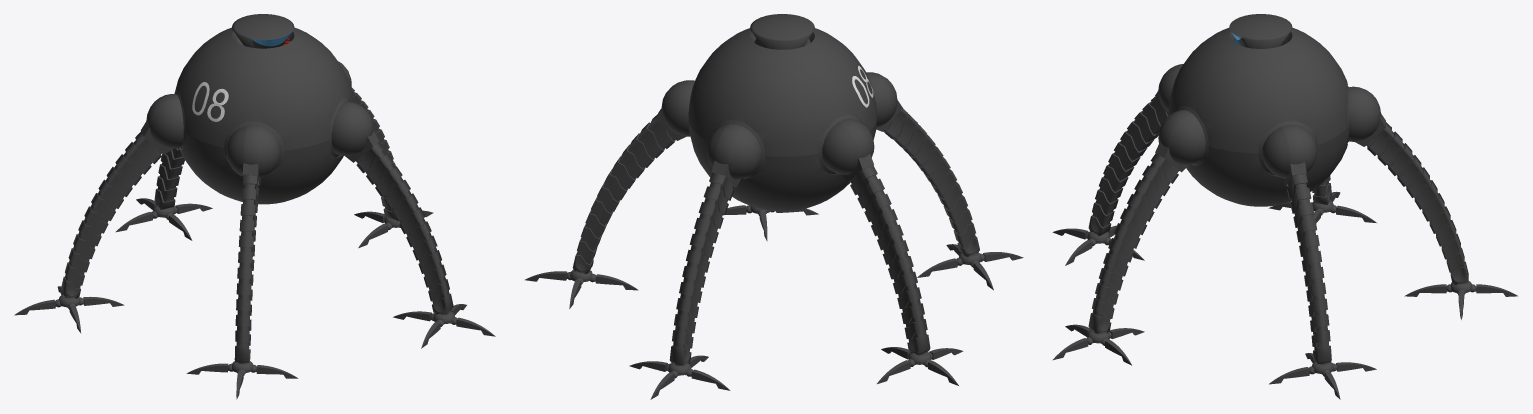
The model's file is Omnidroid.obj.
3 views of the same model, side by side, from view 1: azimuth 30°, elevation 25°; view 2: azimuth 150°, elevation 25°; view 3: azimuth 270°, elevation 25° (orthographic). The views are drawn at different scales.
Parts seen in each view (by area): view 1: Mesh44 Body1 Model, Mesh20 Shoulder2 Leg2 Model, Mesh47 Shoulder3 Leg3 Model, Mesh85 Shoulder5 Leg5 Model, Mesh40 Head1 Model, Mesh50 Arm_segment24 Leg3 Model, Mesh88 Arm_segment46 Leg5 Model, Mesh51 Arm_segment25 Leg3 Model, Mesh89 Arm_segment47 Leg5 Model, Mesh52 Arm_segment26 Leg3 Model, Mesh90 Arm_segment48 Leg5 Model, Mesh21 Shoulder_seal2 Leg2 Model (+3 smaller); view 2: Mesh44 Body1 Model, Mesh66 Shoulder4 Leg4 Model, Mesh85 Shoulder5 Leg5 Model, Mesh40 Head1 Model, Mesh1 Shoulder1 Leg1 Model, Mesh20 Shoulder2 Leg2 Model, Mesh88 Arm_segment46 Leg5 Model, Mesh89 Arm_segment47 Leg5 Model, Mesh4 Arm_segment2 Leg1 Model, Mesh90 Arm_segment48 Leg5 Model, Mesh91 Arm_segment49 Leg5 Model, Mesh5 Arm_segment3 Leg1 Model; view 3: Mesh44 Body1 Model, Mesh1 Shoulder1 Leg1 Model, Mesh47 Shoulder3 Leg3 Model, Mesh40 Head1 Model, Mesh66 Shoulder4 Leg4 Model, Mesh20 Shoulder2 Leg2 Model, Mesh50 Arm_segment24 Leg3 Model, Mesh69 Arm_segment35 Leg4 Model, Mesh51 Arm_segment25 Leg3 Model, Mesh52 Arm_segment26 Leg3 Model, Mesh70 Arm_segment36 Leg4 Model, Mesh53 Arm_segment27 Leg3 Model (+5 smaller).
Part boxes in pixels (box(x1,y1,x2,y2)): Mesh44 Body1 Model: box(174, 27, 353, 204); Mesh20 Shoulder2 Leg2 Model: box(226, 125, 280, 185); Mesh47 Shoulder3 Leg3 Model: box(331, 101, 378, 162); Mesh85 Shoulder5 Leg5 Model: box(140, 94, 183, 154); Mesh40 Head1 Model: box(232, 14, 294, 48); Mesh50 Arm_segment24 Leg3 Model: box(365, 150, 393, 184); Mesh88 Arm_segment46 Leg5 Model: box(125, 140, 152, 174); Mesh51 Arm_segment25 Leg3 Model: box(374, 163, 402, 196); Mesh89 Arm_segment47 Leg5 Model: box(115, 152, 142, 185); Mesh52 Arm_segment26 Leg3 Model: box(383, 177, 410, 208); Mesh90 Arm_segment48 Leg5 Model: box(106, 165, 132, 196); Mesh21 Shoulder_seal2 Leg2 Model: box(224, 121, 284, 170); Mesh44 Body1 Model: box(689, 28, 877, 211); Mesh66 Shoulder4 Leg4 Model: box(706, 124, 761, 187); Mesh85 Shoulder5 Leg5 Model: box(822, 118, 874, 182); Mesh40 Head1 Model: box(750, 14, 814, 49); Mesh1 Shoulder1 Leg1 Model: box(655, 80, 694, 140); Mesh20 Shoulder2 Leg2 Model: box(866, 72, 902, 131); Mesh88 Arm_segment46 Leg5 Model: box(857, 175, 884, 208); Mesh89 Arm_segment47 Leg5 Model: box(864, 190, 891, 221); Mesh4 Arm_segment2 Leg1 Model: box(639, 122, 665, 158); Mesh90 Arm_segment48 Leg5 Model: box(871, 205, 897, 236); Mesh91 Arm_segment49 Leg5 Model: box(877, 220, 903, 250); Mesh5 Arm_segment3 Leg1 Model: box(629, 133, 655, 167); Mesh44 Body1 Model: box(1168, 27, 1347, 206); Mesh1 Shoulder1 Leg1 Model: box(1262, 125, 1317, 186); Mesh47 Shoulder3 Leg3 Model: box(1155, 110, 1205, 172); Mesh40 Head1 Model: box(1229, 14, 1292, 48); Mesh66 Shoulder4 Leg4 Model: box(1348, 86, 1385, 146); Mesh20 Shoulder2 Leg2 Model: box(1155, 64, 1183, 114); Mesh50 Arm_segment24 Leg3 Model: box(1142, 162, 1170, 195); Mesh69 Arm_segment35 Leg4 Model: box(1377, 131, 1402, 165); Mesh51 Arm_segment25 Leg3 Model: box(1134, 176, 1161, 208); Mesh52 Arm_segment26 Leg3 Model: box(1127, 190, 1154, 221); Mesh70 Arm_segment36 Leg4 Model: box(1387, 143, 1412, 175); Mesh53 Arm_segment27 Leg3 Model: box(1120, 205, 1146, 235).
Bounding box in the file's own units: 15.9 × 9.81 × 15.12.
4 materials, 2 textured.
